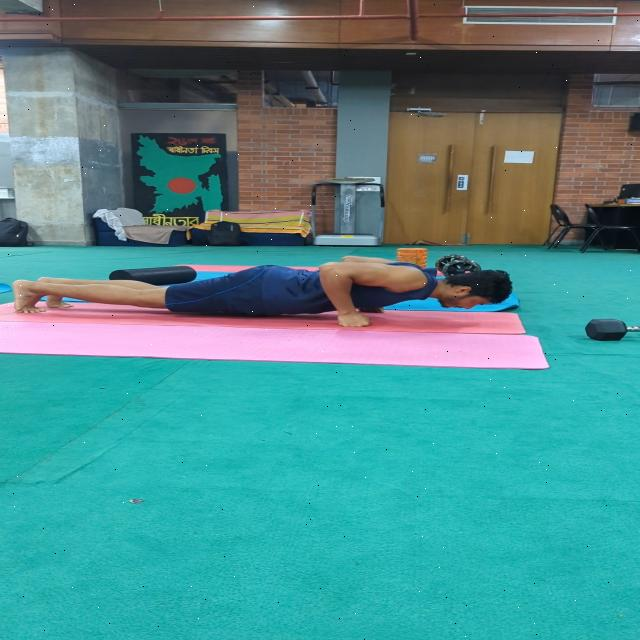Normal_PushUps: (9, 230, 524, 342)
